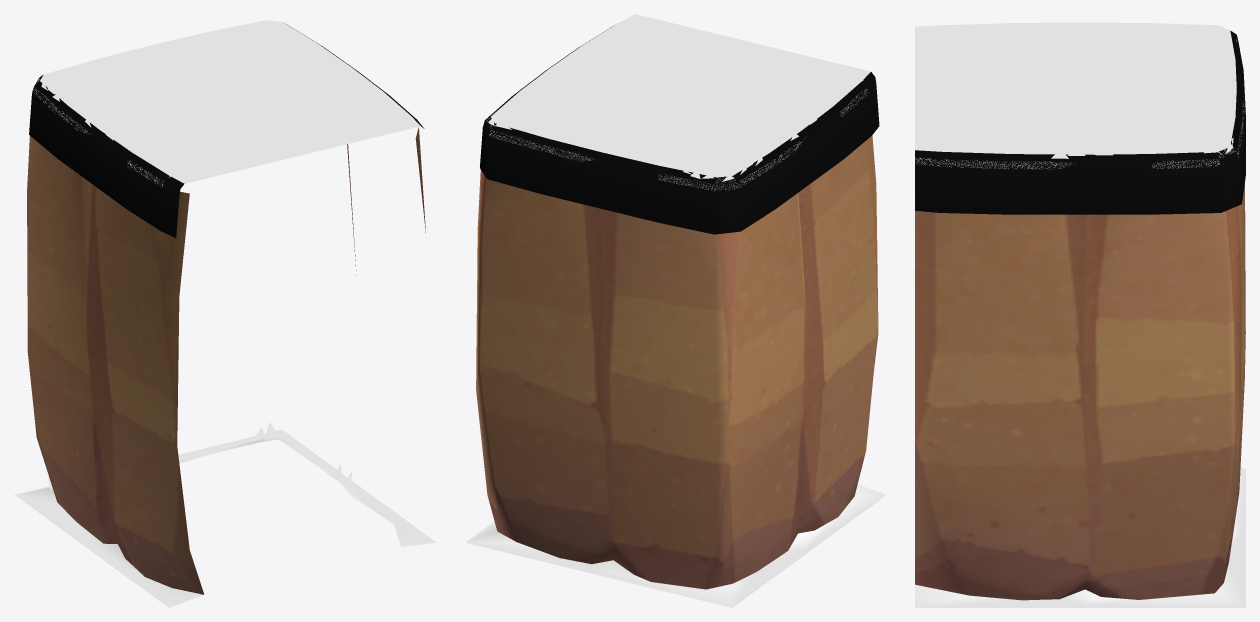
3 views of the same model, side by side, from view 1: azimuth 30°, elevation 25°; view 2: azimuth 150°, elevation 25°; view 3: azimuth 270°, elevation 25° (orthographic). The views are drawn at different scales.
Parts seen in each view (by area): view 1: Cliff__mCliff, GrassT__mGrass, GrassOP__mGrassCliffXlu, GrassB__mGrass, PGrassBA__mProcGrass; view 2: Cliff__mCliff, GrassT__mGrass, GrassOP__mGrassCliffXlu, GrassB__mGrass; view 3: Cliff__mCliff, GrassT__mGrass, GrassOP__mGrassCliffXlu, GrassB__mGrass, PGrassBA__mProcGrass.
Boxes of the visible parts, x1,y1,x2,y2 form: Cliff__mCliff: (27, 127, 425, 594); GrassT__mGrass: (33, 20, 420, 186); GrassOP__mGrassCliffXlu: (29, 24, 424, 237); GrassB__mGrass: (14, 429, 435, 607); PGrassBA__mProcGrass: (41, 82, 402, 537); Cliff__mCliff: (476, 135, 878, 589); GrassT__mGrass: (487, 14, 870, 190); GrassOP__mGrassCliffXlu: (480, 25, 879, 234); GrassB__mGrass: (465, 484, 886, 607); Cliff__mCliff: (915, 183, 1245, 600); GrassT__mGrass: (915, 22, 1244, 169); GrassOP__mGrassCliffXlu: (915, 30, 1245, 214); GrassB__mGrass: (915, 468, 1245, 607); PGrassBA__mProcGrass: (933, 39, 1236, 158).
Size of the model in its own units: 10 by 15.42 by 10.
Materials: 4 (1 with a texture image).
